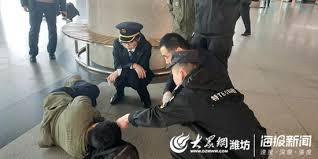fall: (29, 71, 131, 156)
